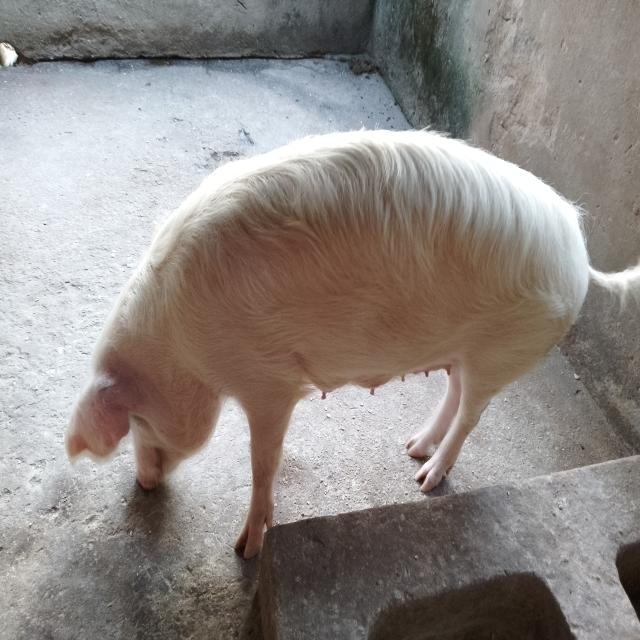pig: (41, 113, 640, 605)
